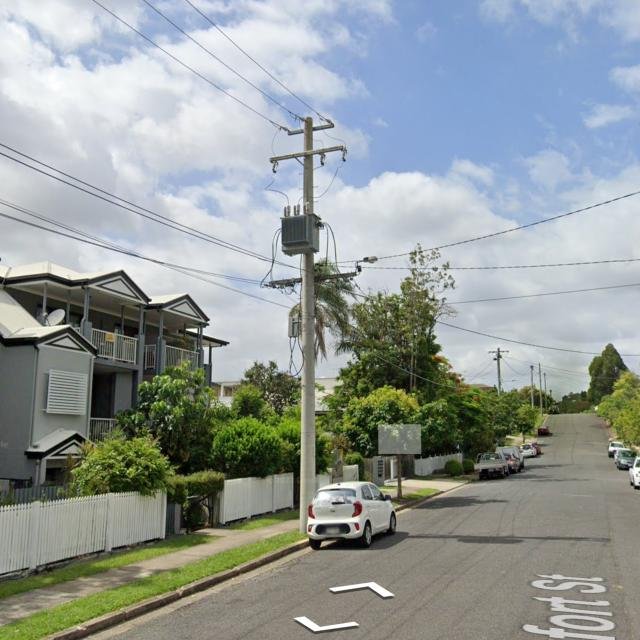HV-transmission: (271, 111, 347, 174)
LV link: (279, 282, 300, 295), (343, 276, 360, 290)
concrete-pole: (297, 117, 317, 535)
crossarm: (270, 271, 358, 287), (269, 144, 346, 162), (286, 122, 334, 136), (488, 349, 510, 354)
streetlight: (354, 255, 378, 270), (500, 379, 518, 383)
timber-pole: (538, 362, 542, 417), (497, 347, 501, 398), (530, 364, 534, 408), (544, 373, 548, 414)
transformer: (279, 206, 319, 254)
